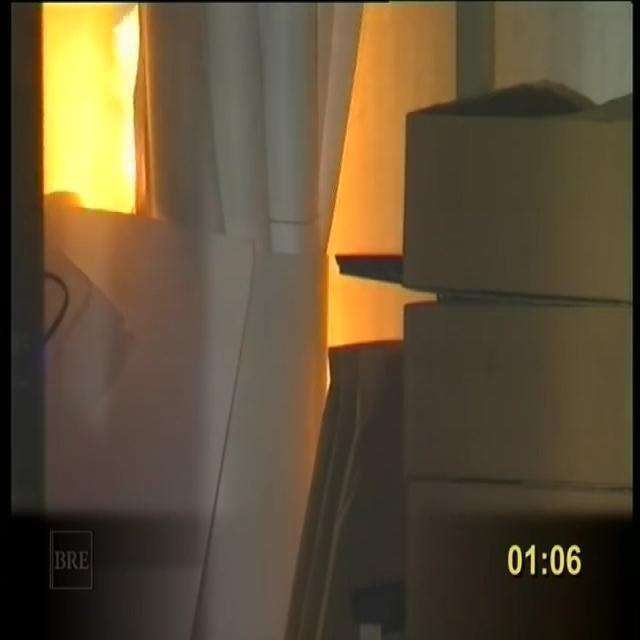Fire: (38, 5, 170, 204)
